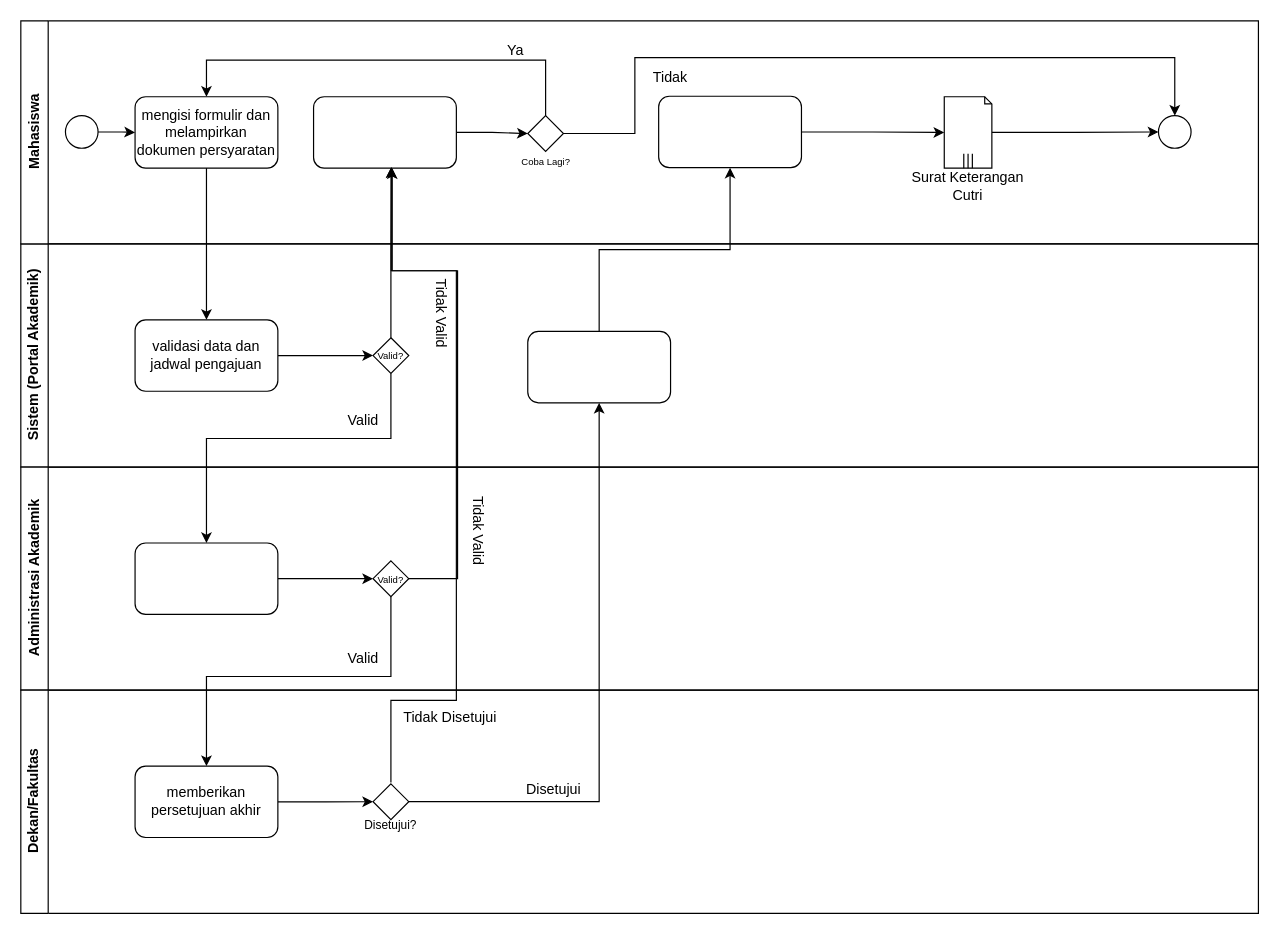
The diagram is 1279 pixels wide and 934 high, and some of its shapes have lost their labels. Each missing label, with the centre of its shape:
"mengevaluasi kelayakan cuti" goes at [206,578].
"Pengajuan cuti disetujui" goes at [729,131].
"Pengajuan cuti ditolak" goes at [384,132].
"Status mahasiswa diubah menjadi Cuti Akademik" goes at [599,366].
